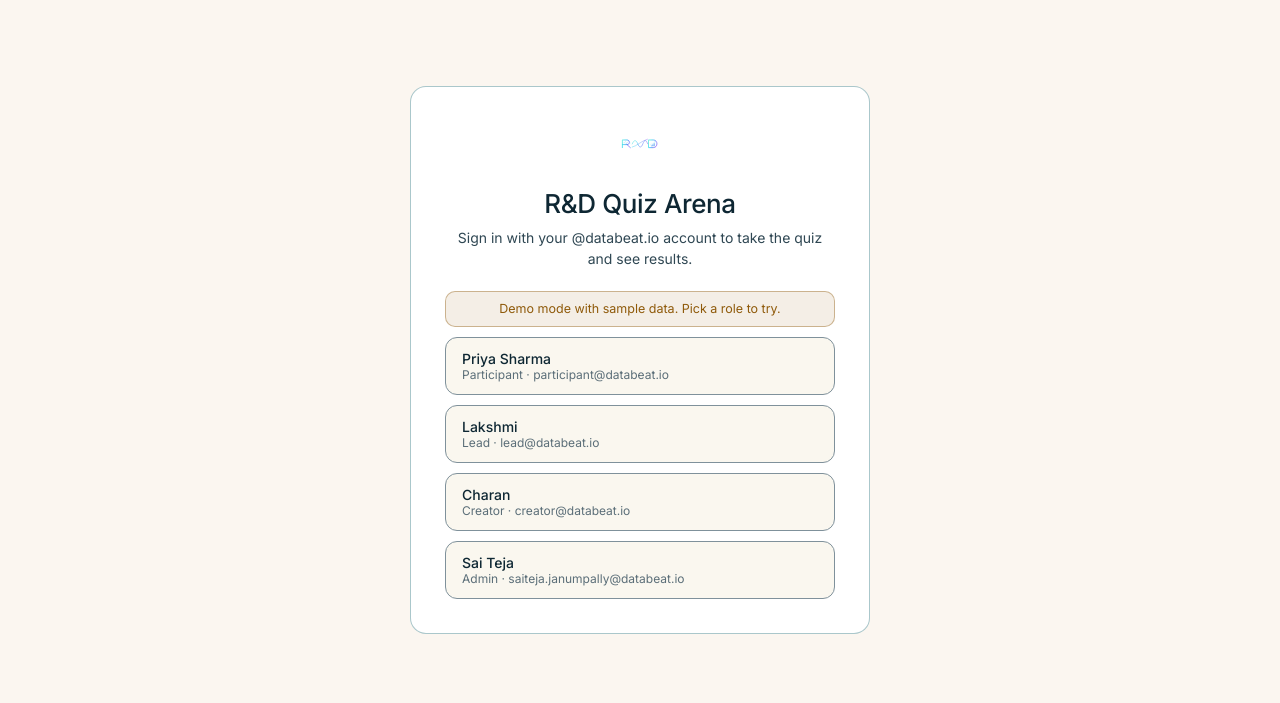
Test: leaderboards › shows the Top 10 with movement, a Your round panel, and no full table underneath
Click the button "Priya Sharma Participant · participant@databeat.io".
click(640, 366)  # box [445,337,835,395]
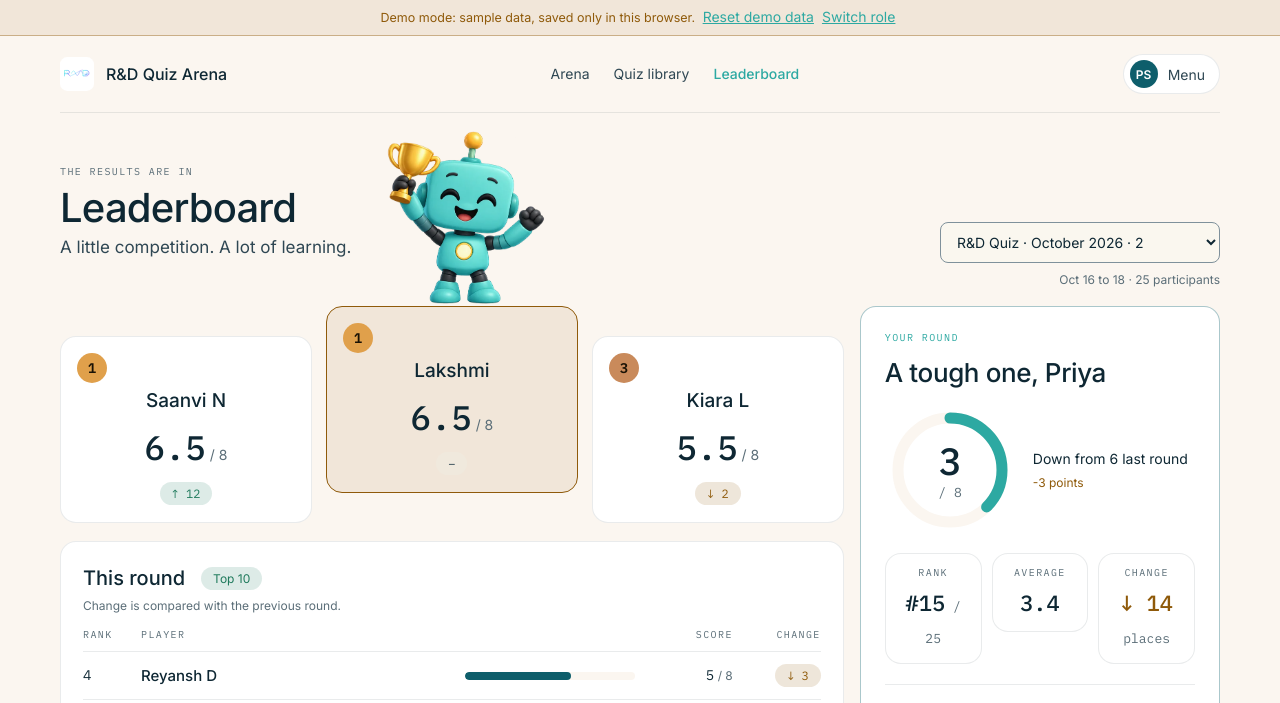
Result: the text "A little competition. A lot of learning." is shown at [60,235,351,260]
Result: the text "Your round" is shown at [885,331,959,346]
Result: the text "Change is compared with the previous round." is shown at [83,598,341,613]
